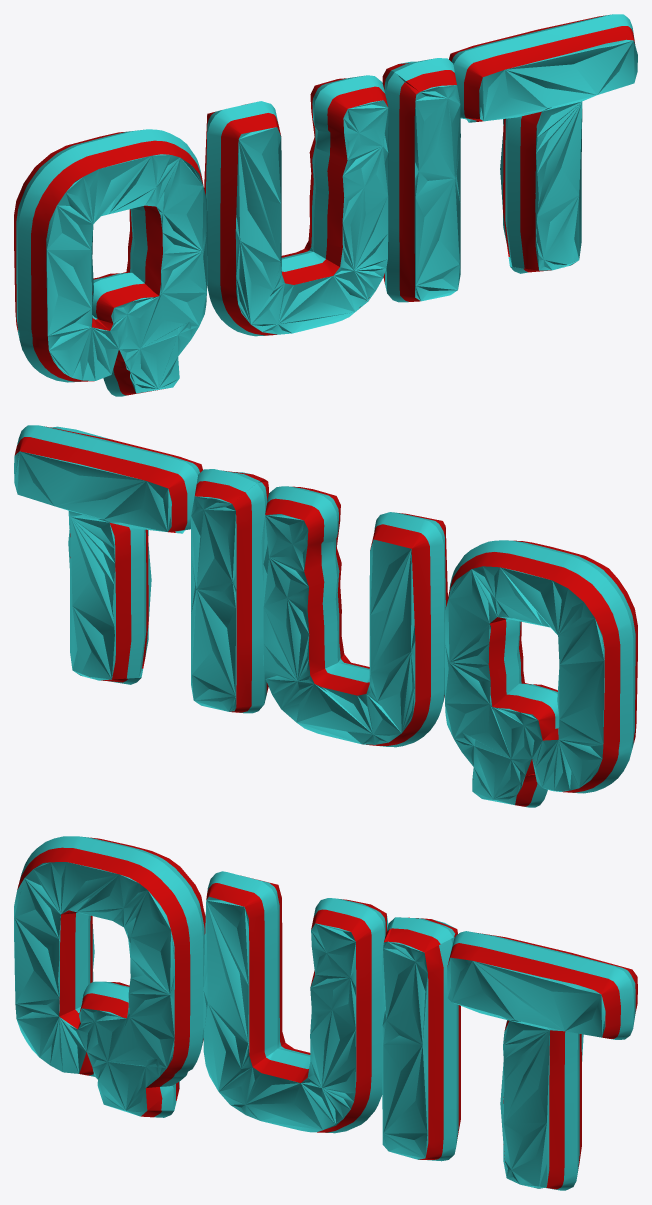
Rendered from TextQuit.fbx.
The picture shows the model from 3 angles, top to bottom: view 1: azimuth 30°, elevation 25°; view 2: azimuth 150°, elevation 25°; view 3: azimuth 330°, elevation 25°; orthographic projection.
Parts seen in each view (by area): view 1: TextQuit; view 2: TextQuit; view 3: TextQuit.
Part boxes in pixels (<box>): TextQuit: <box>14,14,637,396</box>; TextQuit: <box>14,425,637,807</box>; TextQuit: <box>14,836,637,1190</box>.
Size of the model in its own units: 2167 by 884 by 237.
